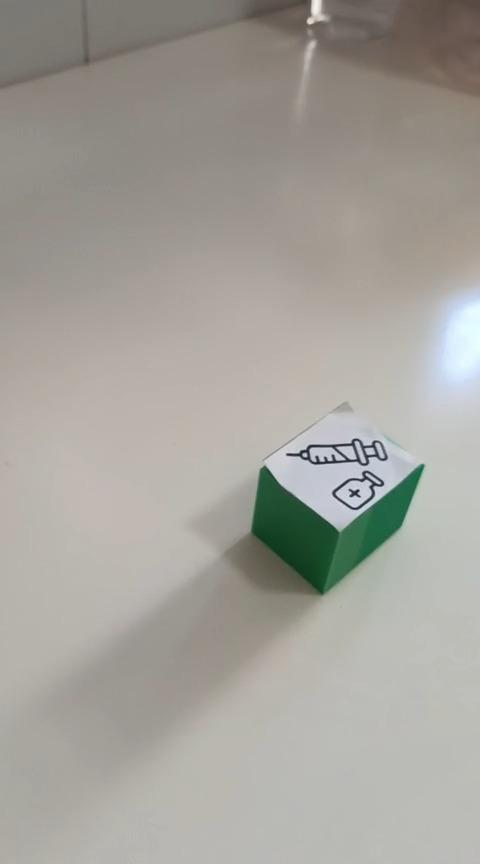antiseptic cream: (249, 399, 425, 595)
